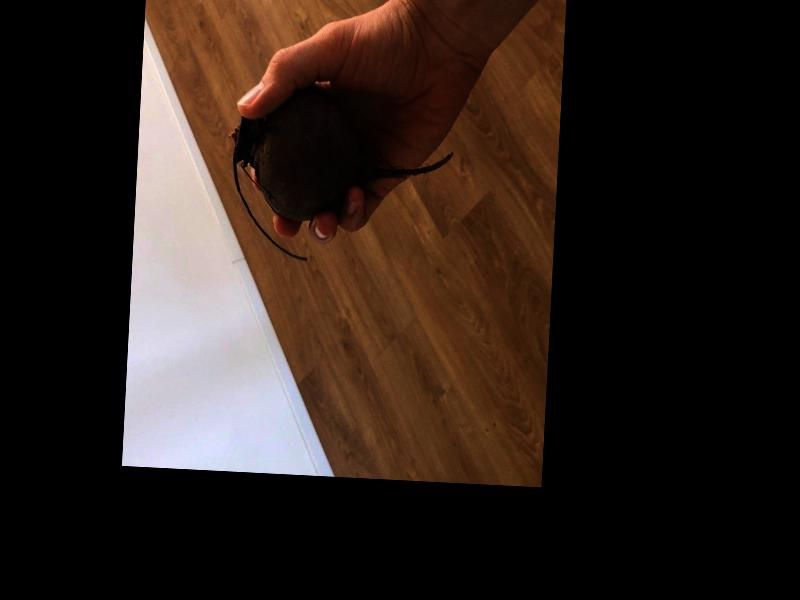Beet: (223, 82, 454, 269)
